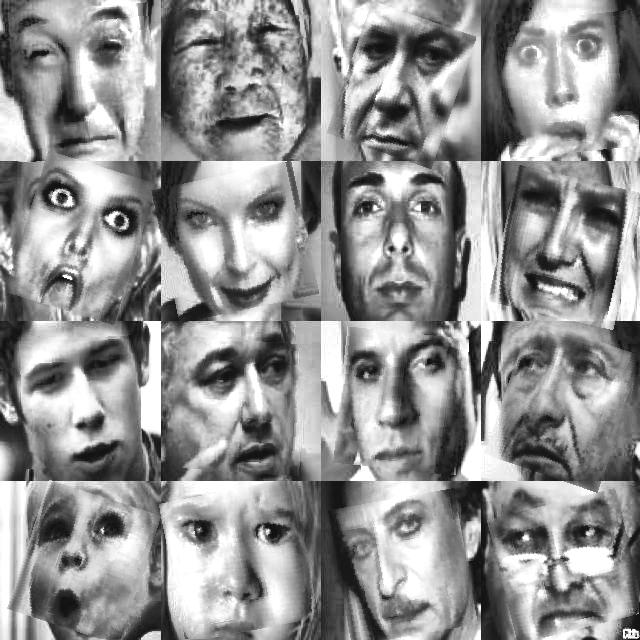angry: (494, 495, 640, 637), (336, 8, 467, 162)
fear: (165, 484, 313, 638), (11, 5, 156, 160), (14, 158, 148, 318), (16, 488, 152, 638), (499, 13, 640, 156)
happy: (158, 168, 313, 316), (173, 10, 308, 158)
neutral: (333, 492, 472, 640), (337, 329, 466, 472), (172, 338, 305, 474), (20, 337, 142, 467)
sad: (494, 326, 634, 486), (494, 172, 637, 324)
